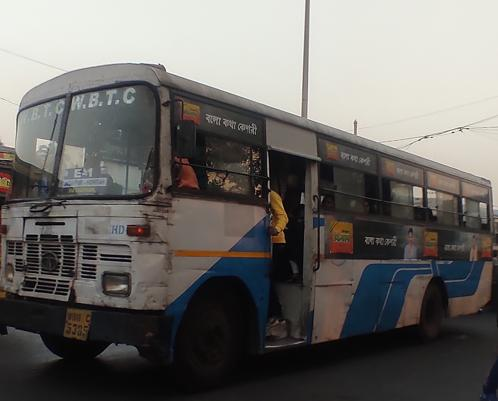Bus: (4, 62, 495, 378)
